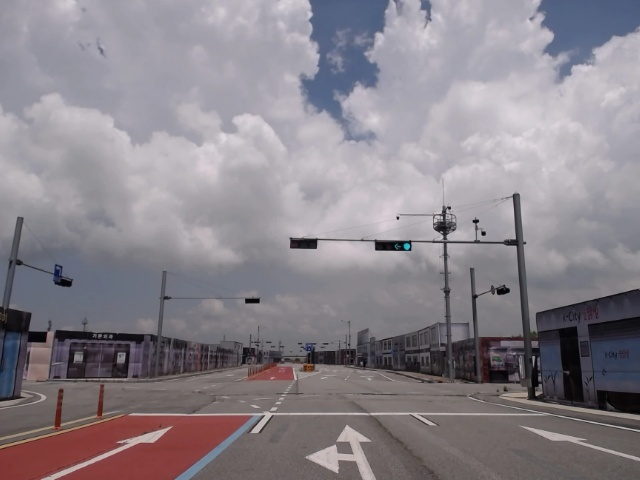all_green_4: (374, 240, 411, 251)
